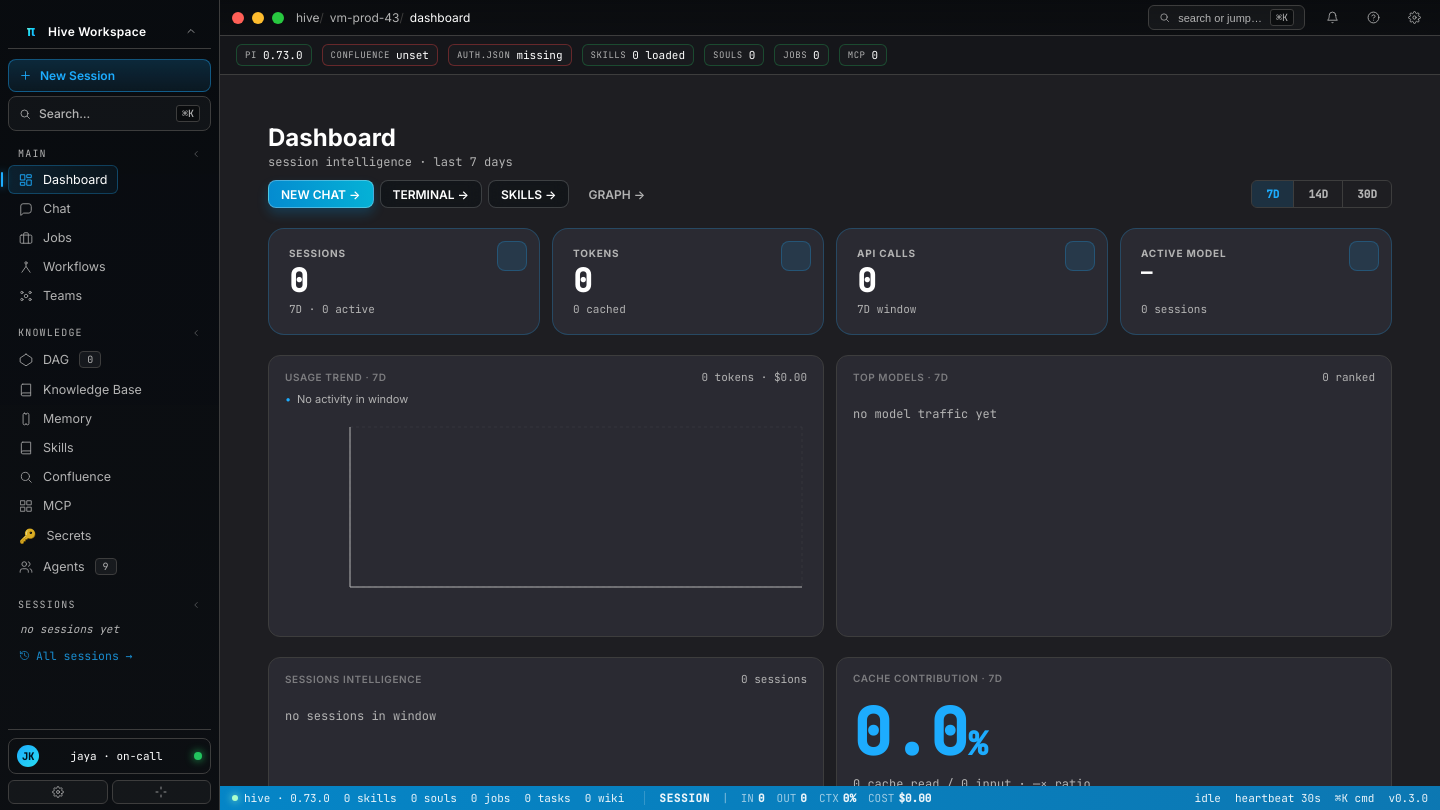
Test case: screen selection › preview screens render the PREVIEW badge
This screenshot has width=1440, height=810.
Step 1. Click the button with test id "sb-item-teams" → [51, 296], box [8,281,93,310]
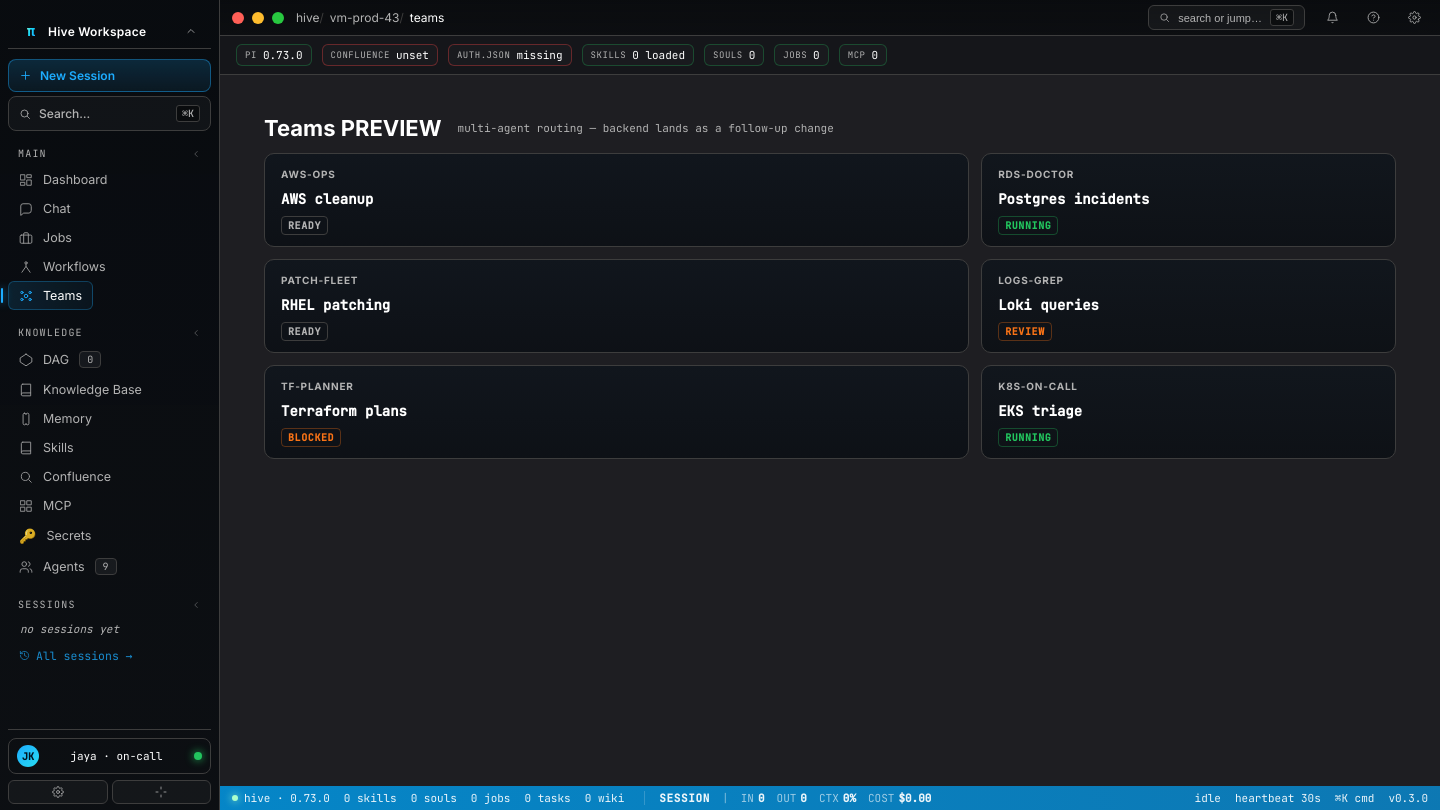
Check: the element with test id "screen-teams-preview" shows "PREVIEW", box [341,115,442,141]
